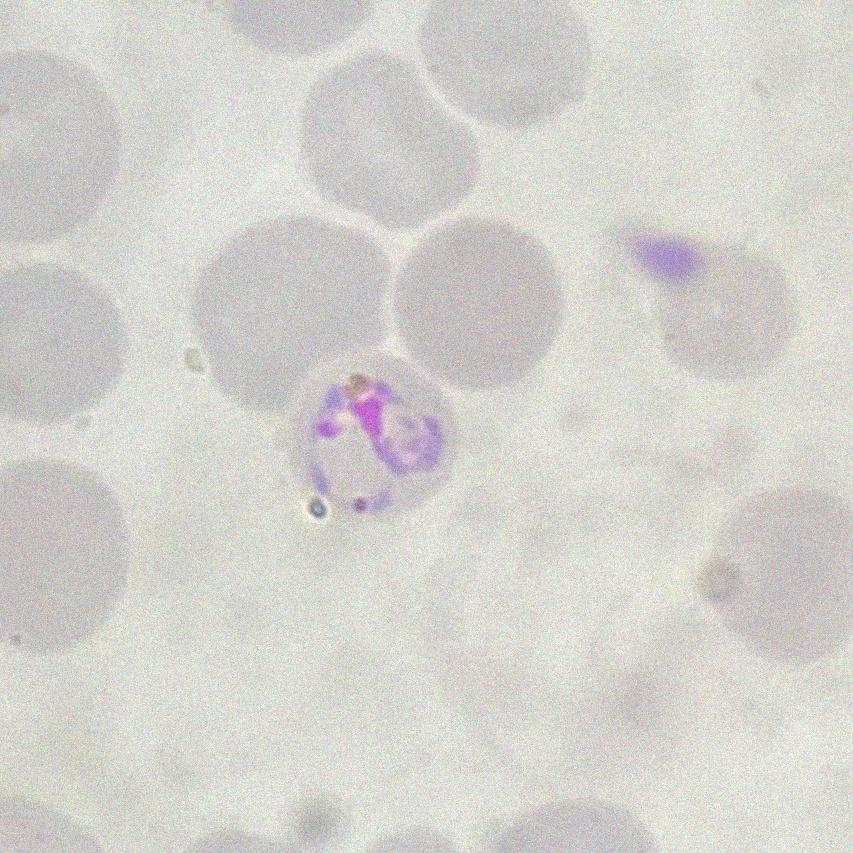Infected: (286, 349, 462, 534)
Uninfected: (200, 219, 398, 420), (302, 53, 478, 229), (390, 217, 567, 386), (2, 455, 129, 658), (712, 483, 853, 658), (0, 51, 126, 246), (422, 0, 597, 126), (2, 257, 127, 430), (656, 245, 802, 386)
